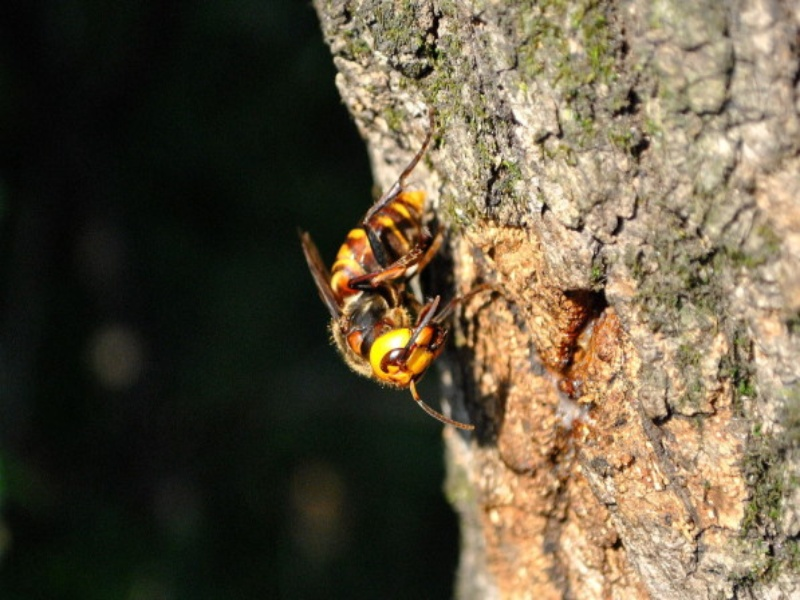asian_giant_hornet: (324, 183, 452, 404)
